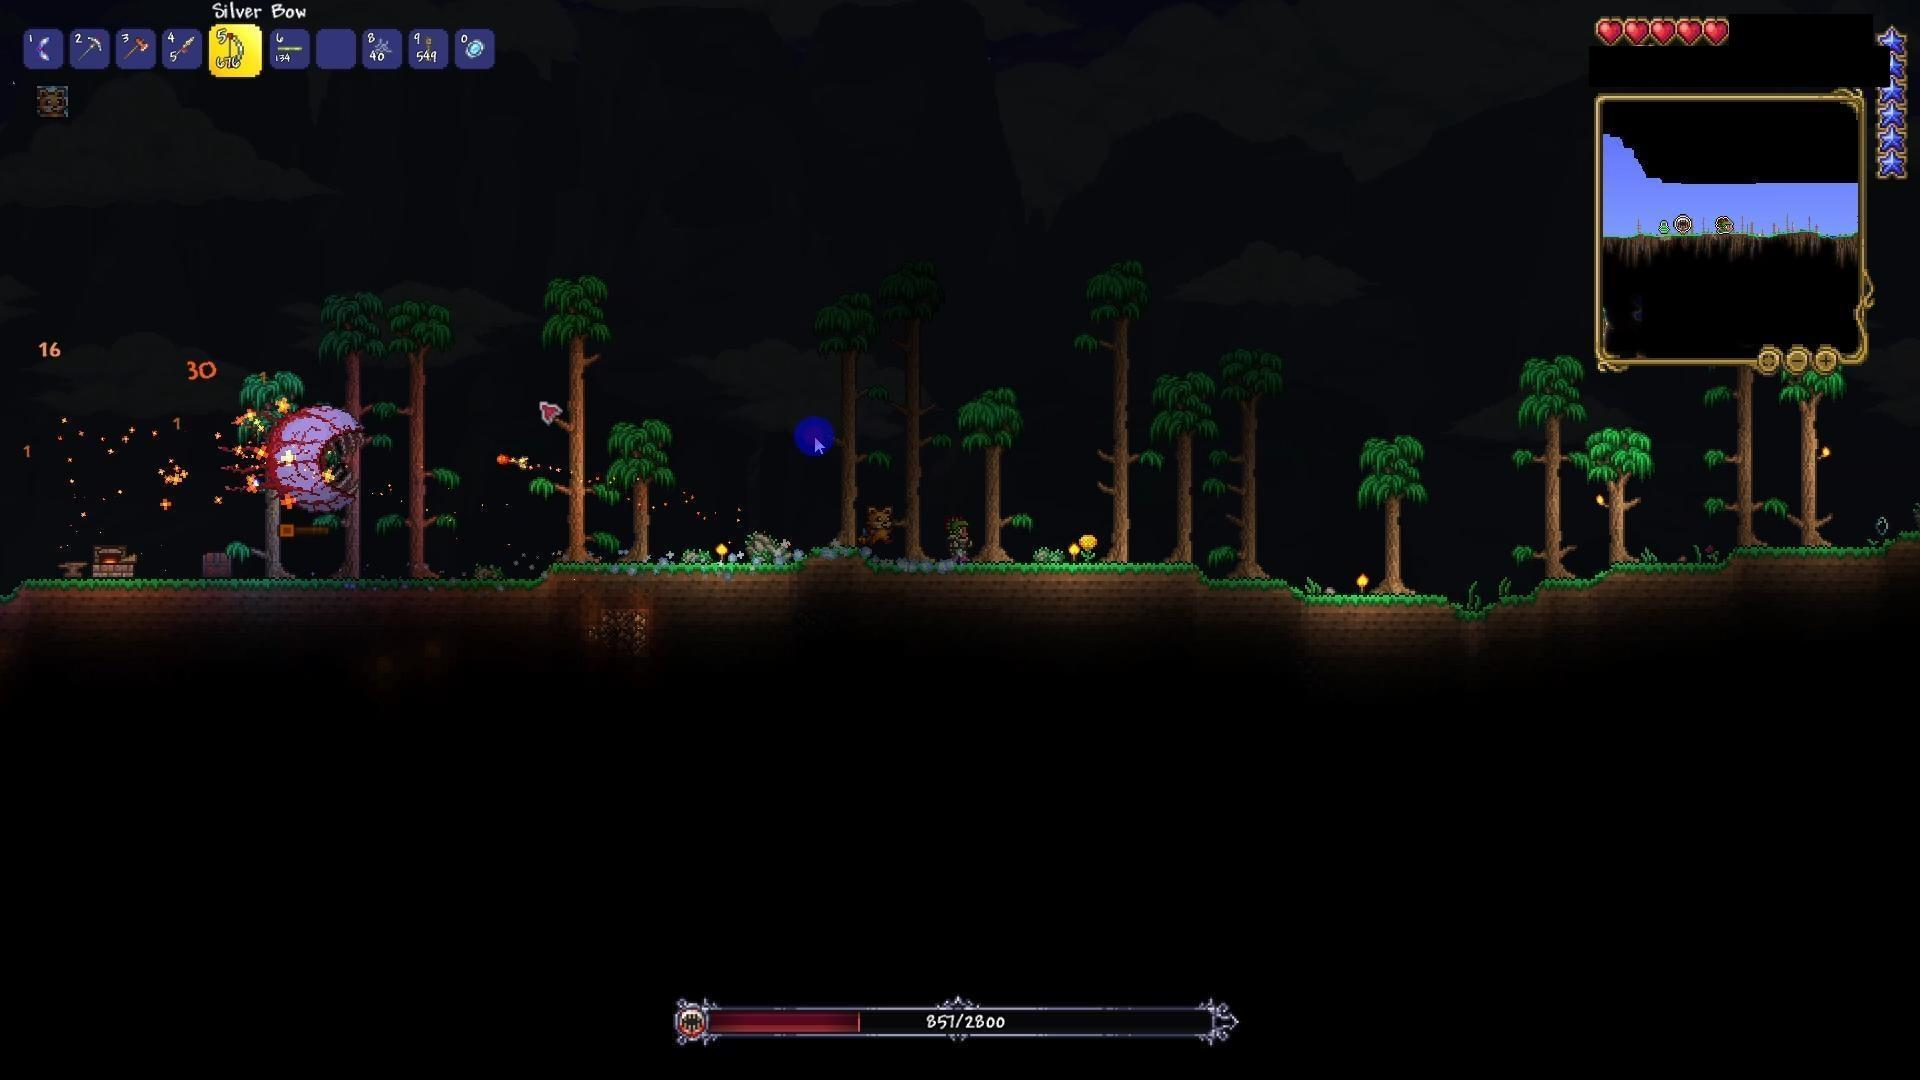dirt: (3, 567, 550, 620), (782, 554, 1215, 599), (535, 546, 814, 601), (1654, 525, 1909, 580), (1460, 563, 1654, 621), (1205, 571, 1457, 607)
heart: (1702, 17, 1733, 51), (1593, 16, 1626, 46), (1676, 15, 1704, 50), (1650, 16, 1676, 49), (1625, 15, 1651, 44)
tree: (531, 258, 599, 576), (388, 290, 450, 574), (1091, 260, 1150, 555), (1511, 340, 1581, 583), (330, 284, 385, 583), (1350, 430, 1418, 608), (1585, 423, 1650, 575), (1785, 377, 1838, 551), (963, 393, 1015, 555)
